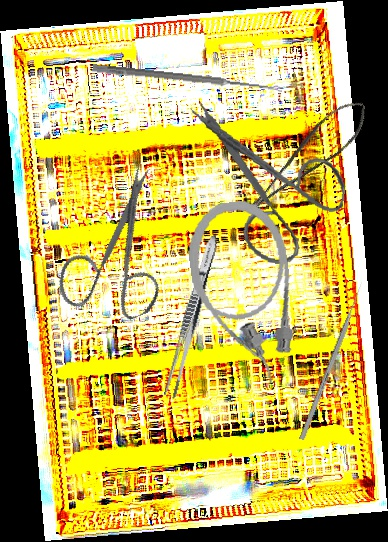Cannula: (182, 195, 304, 392)
Dressing Forceps: (162, 232, 222, 401)
Iris Scissors: (170, 98, 355, 272), (26, 162, 201, 341)
Micro Scissor: (231, 93, 379, 216)
Pusher: (299, 281, 365, 441)
Surgical Spoon: (92, 64, 283, 93)
